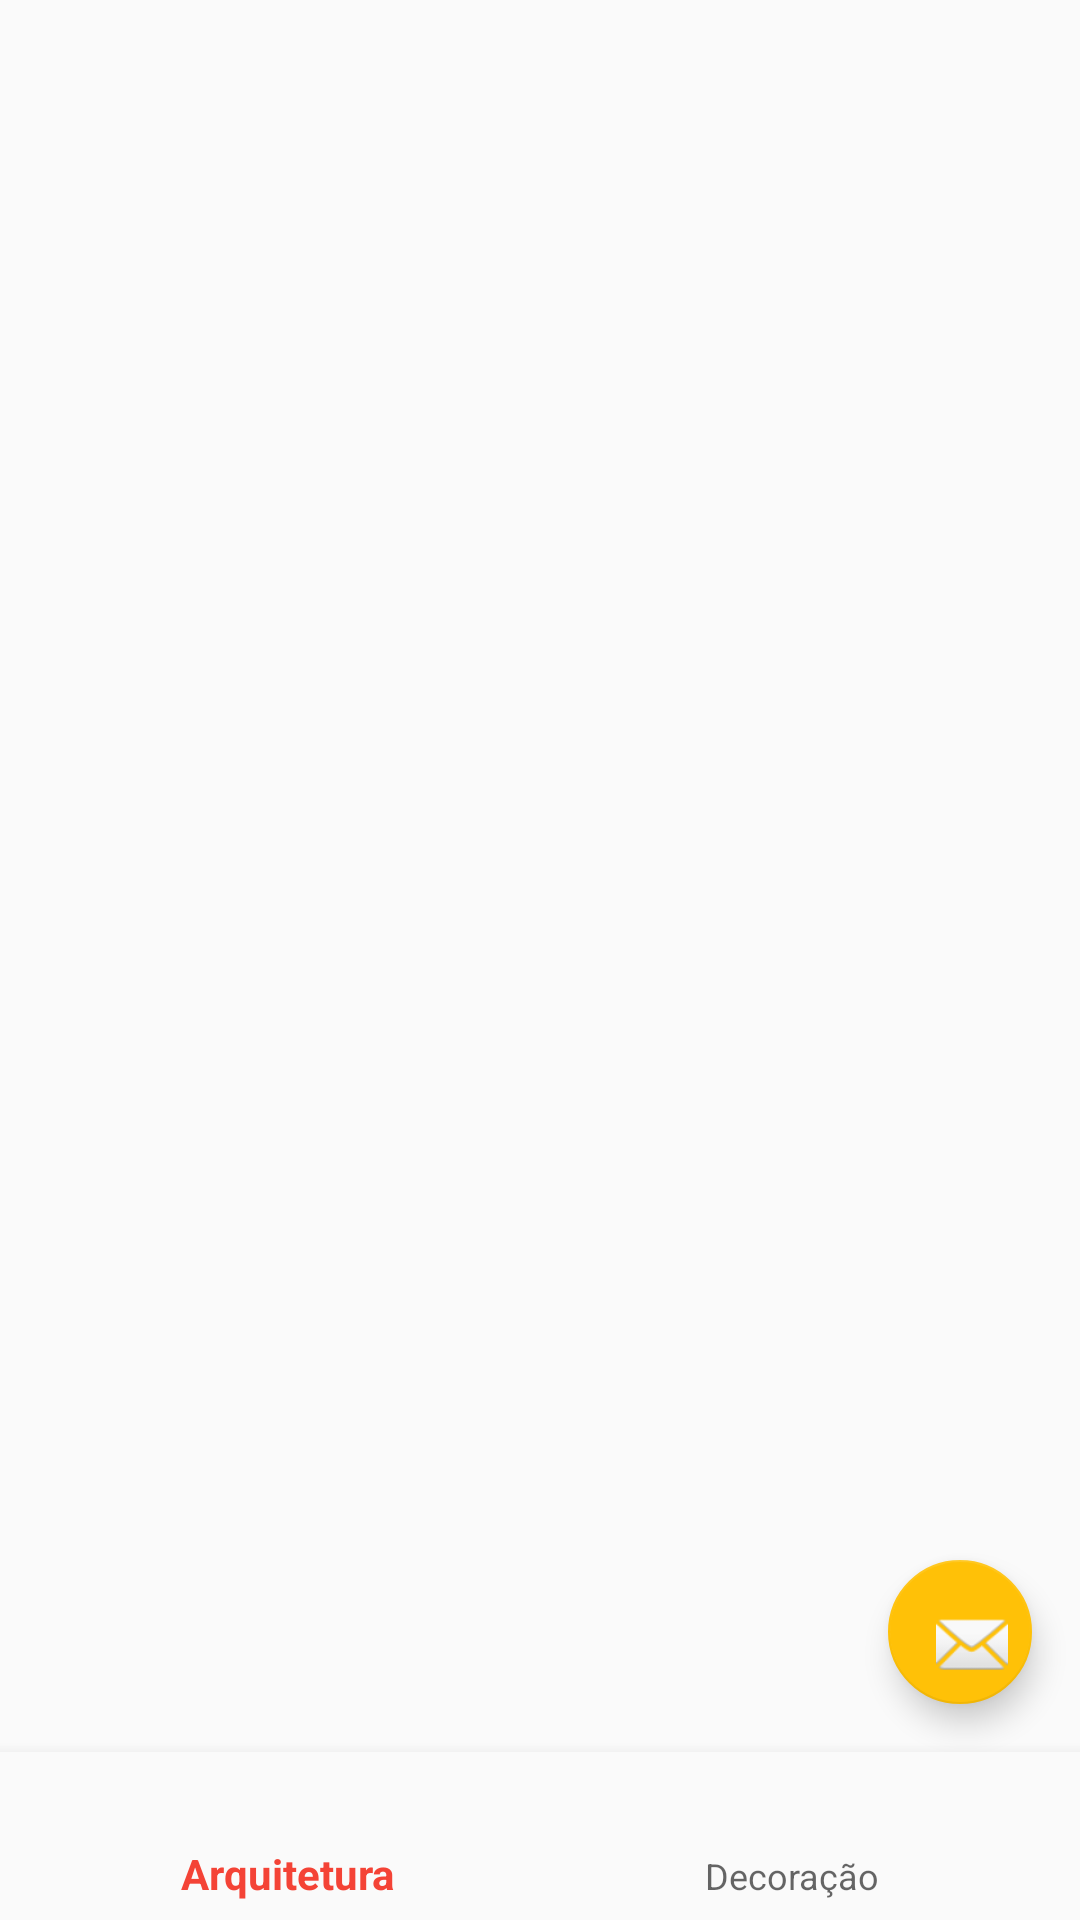

Named icons in this screenshot (1080x1920) and their centers, (x,y):
Atalho para enviar e-mail: (960,1632)
